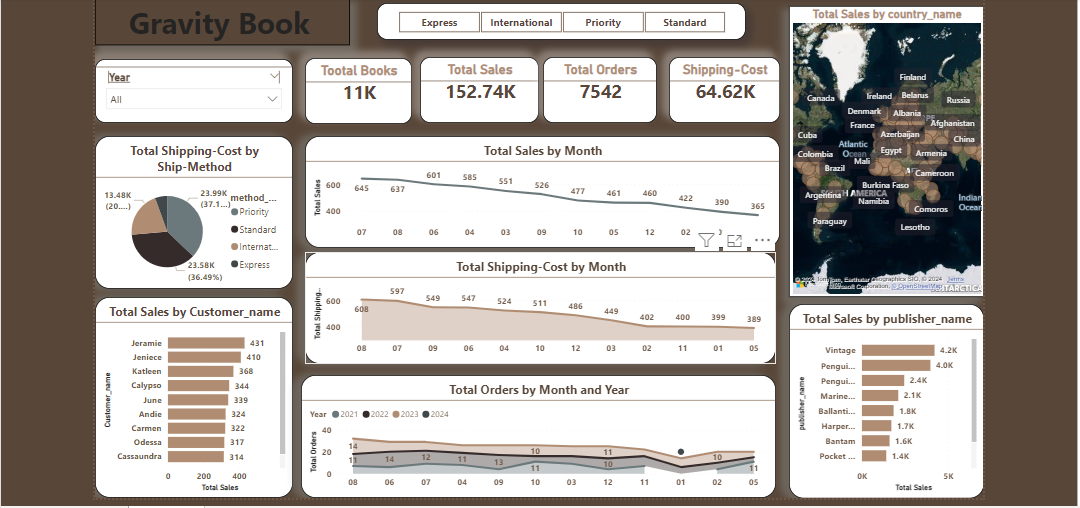

What the dashboard file says about the page in this screenshot:
{"tool":"powerbi","page":{"name":"Page 1","canvas":[1280,720],"ordinal":0},"visuals":[{"type":"card","title":" Shipping-Cost","fields":{"Values":["Accumalative_fact_OrderHistory.Total Shipping-Cost"]},"box":[826.6,85,159.8,95],"z":0},{"type":"card","title":"Tootal Books","fields":{"Values":["Fact_OrderSales.Total Books"]},"box":[302.4,86.4,154.1,95],"z":1000},{"type":"card","title":"Total Sales","fields":{"Values":["Fact_OrderSales.Total Sales"]},"box":[468,85,171.4,95],"z":2000},{"type":"card","title":"Total Orders","fields":{"Values":["Accumalative_fact_OrderHistory.Total Orders"]},"box":[645.1,85,164.2,95],"z":3000},{"type":"textbox","box":[0,0,367.2,67.7],"z":4000},{"type":"map","fields":{"Category":["Dim_Address.country_name"],"Size":["Fact_OrderSales.Total Sales"]},"box":[998.7,11.7,281.3,419.5],"z":5000},{"type":"slicer","fields":{"Values":["ShippingMethod.method_name"]},"box":[406.1,7.2,531.4,53.3],"z":6000},{"type":"pieChart","title":"Total Shipping-Cost by Ship-Method","fields":{"Category":["ShippingMethod.method_name"],"Y":["Accumalative_fact_OrderHistory.Total Shipping-Cost"]},"box":[0,198.7,285.1,220.3],"z":7000},{"type":"barChart","fields":{"Category":["Dim_Book.publisher_name"],"Y":["Fact_OrderSales.Total Sales"]},"box":[998.7,441.1,281.3,279.6],"z":8000},{"type":"clusteredBarChart","fields":{"Category":["Dim_Customer.first_name"],"Y":["Fact_OrderSales.Total Sales"]},"box":[0,430.6,285.1,289.4],"z":9000},{"type":"lineChart","fields":{"Category":["DimDate.Month"],"Y":["Fact_OrderSales.Total Sales"]},"box":[302.4,198.7,684,161.3],"z":10000},{"type":"slicer","fields":{"Values":["DimDate.Year"]},"box":[0,87.8,285.1,92.2],"z":11000},{"type":"areaChart","fields":{"Category":["DimDate.Month"],"Y":["Accumalative_fact_OrderHistory.Total Shipping-Cost"]},"box":[302.4,365.8,678.2,161.3],"z":12000},{"type":"stackedAreaChart","fields":{"Category":["DimDate.Month"],"Y":["Accumalative_fact_OrderHistory.Total Orders"],"Series":["DimDate.Year"]},"box":[296.6,542.9,684,177.1],"z":13000}]}

Visuals, with their boxes in screenshot pixels (x1, y1, x2, y2):
" Shipping-Cost" card: {"left": 666, "top": 54, "right": 778, "bottom": 120}
"Tootal Books" card: {"left": 301, "top": 55, "right": 408, "bottom": 121}
"Total Sales" card: {"left": 416, "top": 54, "right": 536, "bottom": 120}
"Total Orders" card: {"left": 540, "top": 54, "right": 654, "bottom": 120}
textbox: {"left": 90, "top": 0, "right": 346, "bottom": 42}
map - Dim_Address.country_name x Fact_OrderSales.Total Sales: {"left": 786, "top": 3, "right": 982, "bottom": 295}
slicer - ShippingMethod.method_name: {"left": 373, "top": 0, "right": 744, "bottom": 37}
"Total Shipping-Cost by Ship-Method" pieChart: {"left": 90, "top": 133, "right": 289, "bottom": 287}
barChart - Dim_Book.publisher_name x Fact_OrderSales.Total Sales: {"left": 786, "top": 302, "right": 982, "bottom": 497}
clusteredBarChart - Dim_Customer.first_name x Fact_OrderSales.Total Sales: {"left": 90, "top": 295, "right": 289, "bottom": 496}
lineChart - DimDate.Month x Fact_OrderSales.Total Sales: {"left": 301, "top": 133, "right": 778, "bottom": 245}
slicer - DimDate.Year: {"left": 90, "top": 56, "right": 289, "bottom": 120}
areaChart - DimDate.Month x Accumalative_fact_OrderHistory.Total Shipping-Cost: {"left": 301, "top": 249, "right": 774, "bottom": 362}
stackedAreaChart - DimDate.Month x Accumalative_fact_OrderHistory.Total Orders: {"left": 297, "top": 373, "right": 774, "bottom": 496}
